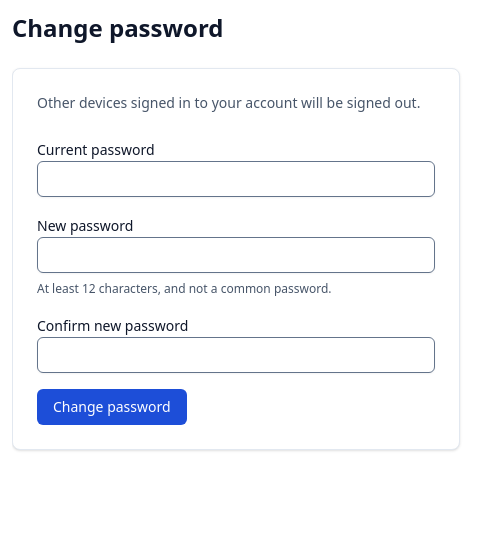
Test case: ChangePasswordPage › changes the password and says other devices were signed out
Type "old passphrase 123" into the password field labelled "Current password" at [236, 179], box [37,161,435,197]
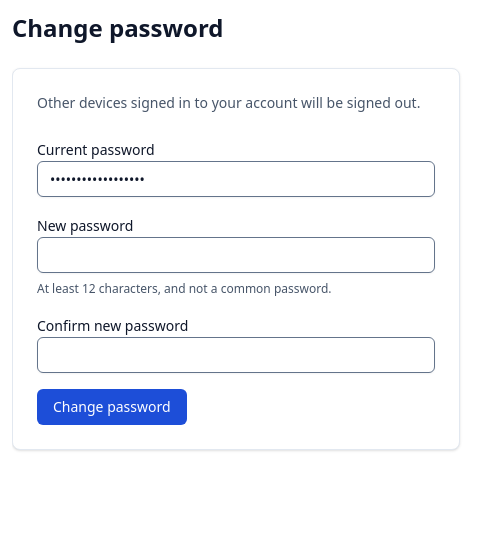
Type "a brand new passphrase" into the password field labelled "New password" at [236, 255], box [37,237,435,273]
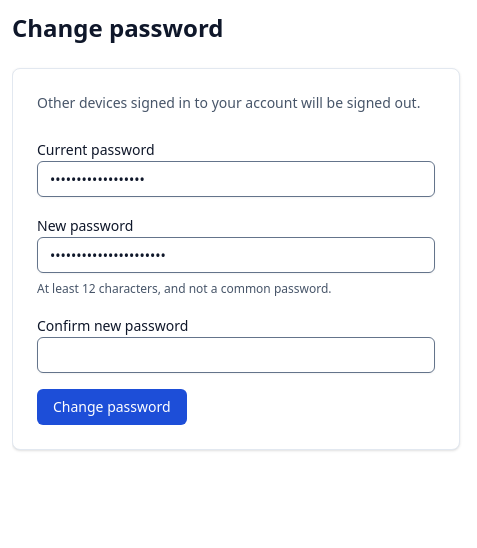
Type "a brand new passphrase" into the password field labelled "Confirm new password" at [236, 355], box [37,337,435,373]
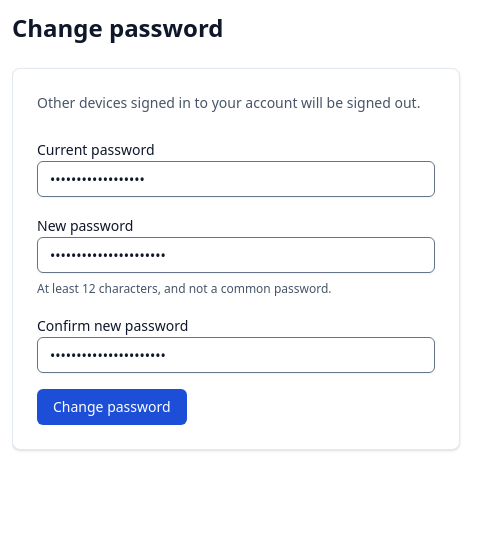
Click the button "Change password" at [112, 407], box [37,389,187,425]
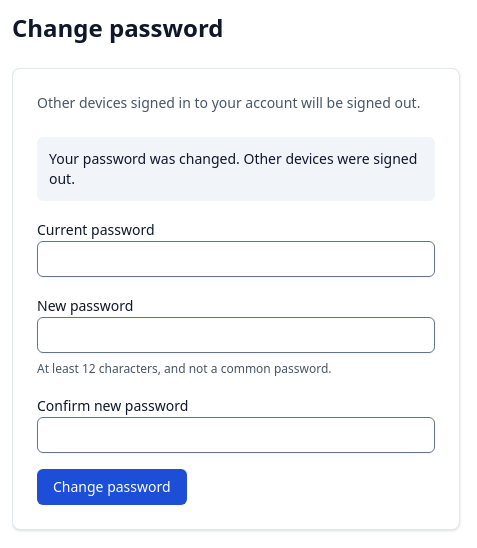
Expected: the message reads "Your password was changed. Other devices were signed out.", [49,149,417,188]
Expected: the password field labelled "Current password" is empty, [37,241,435,277]
